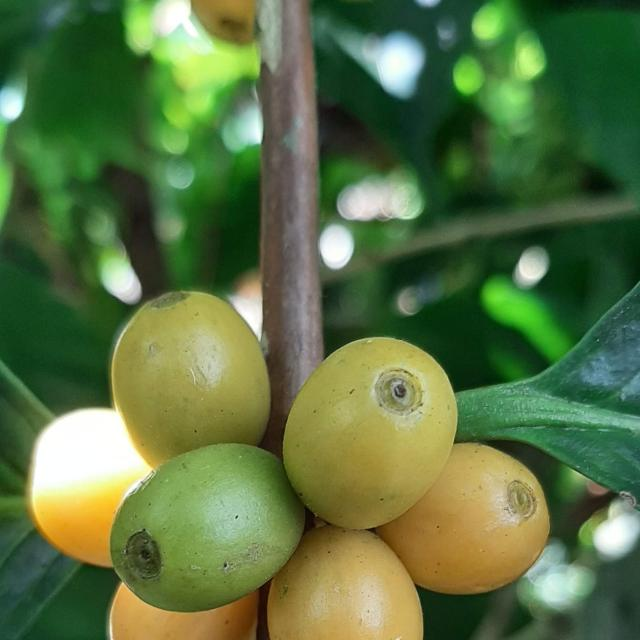red: (378, 444, 551, 596), (27, 409, 150, 569), (267, 526, 424, 640), (108, 585, 258, 640)
yellow: (283, 338, 458, 530), (109, 445, 304, 613), (110, 292, 270, 468)
